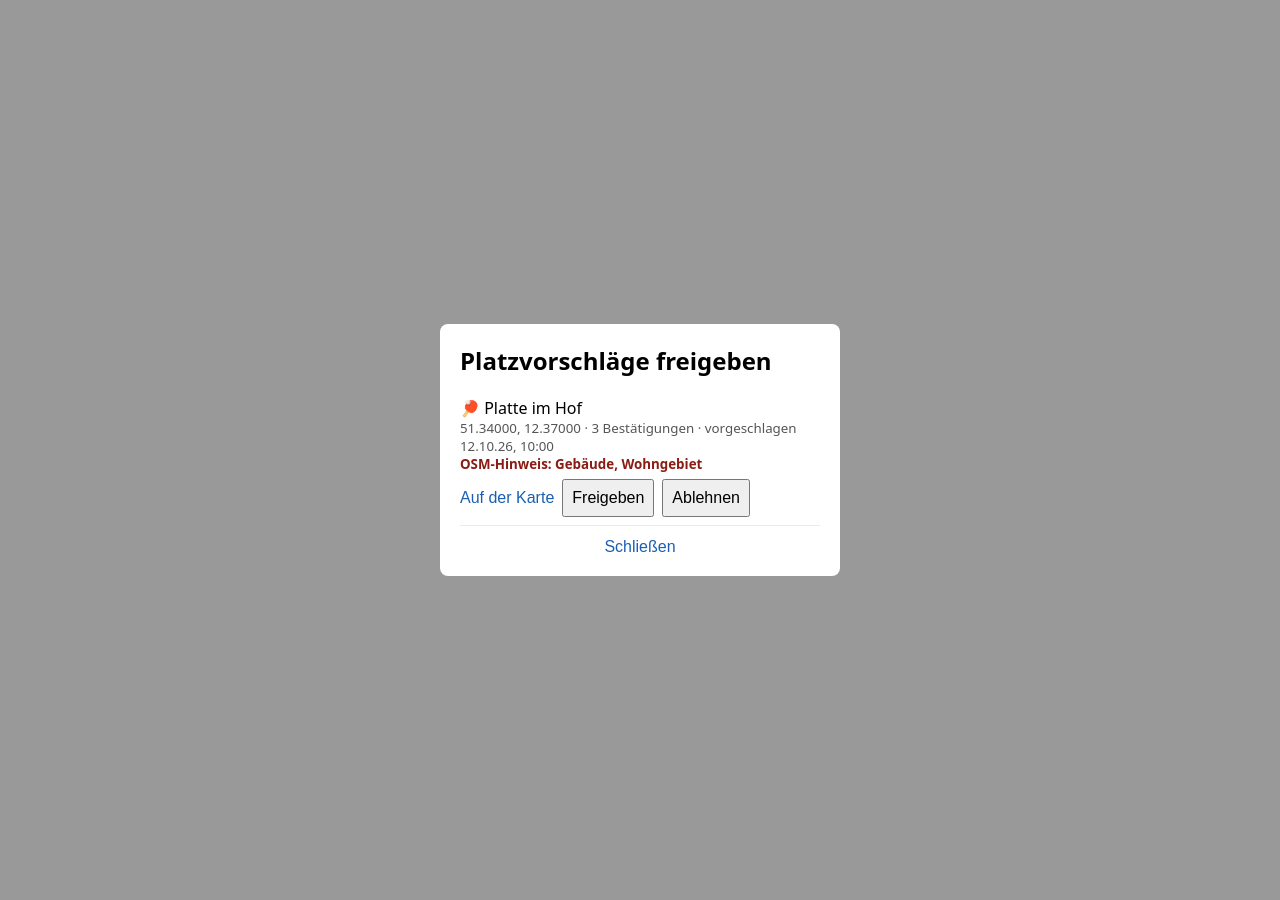
Test: SuggestionApprovalDialog (SCRUM-56) › shows the Confirmations and the OSM hint, and approves
Click the button "Freigeben".
click(608, 498)  # box left=562, top=479, right=654, bottom=517
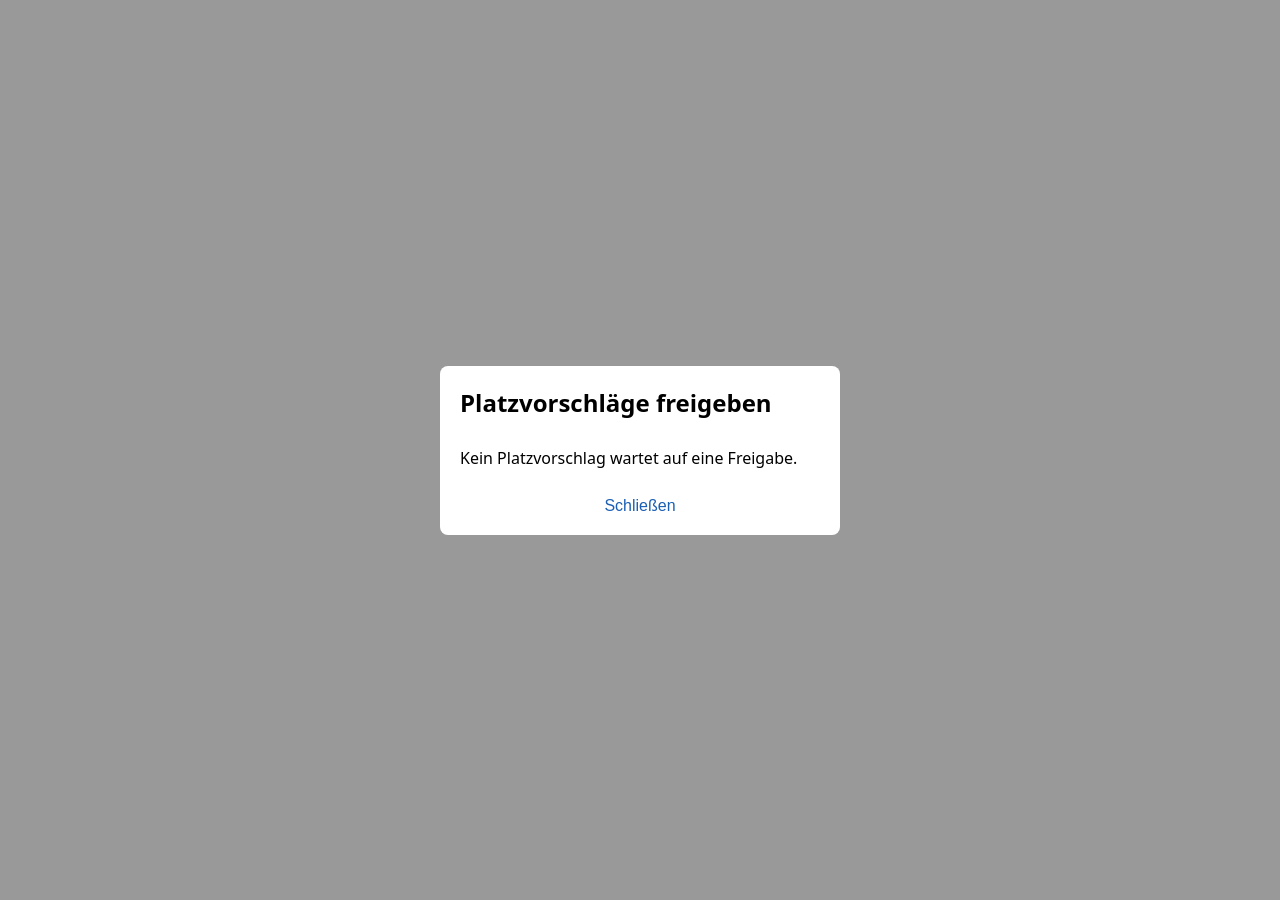
expect the text "Kein Platzvorschlag wartet auf eine Freigabe." is shown: met, box left=460, top=446, right=820, bottom=468
